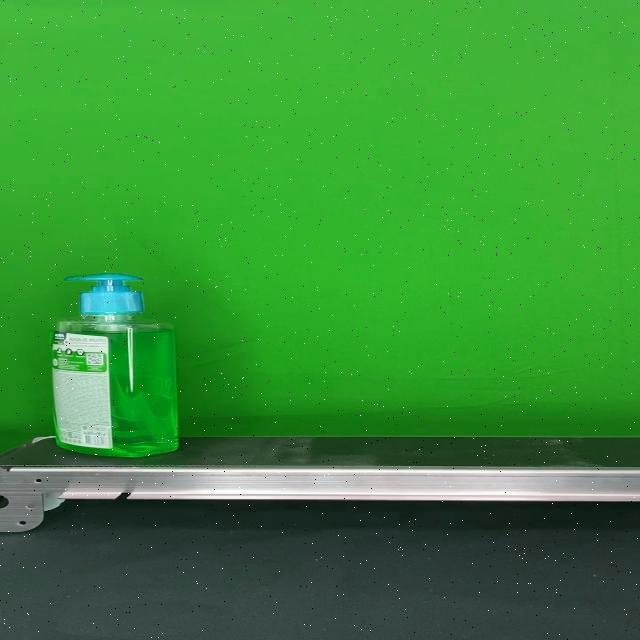Bottle: (50, 273, 179, 458)
Cap: (64, 273, 146, 315)
